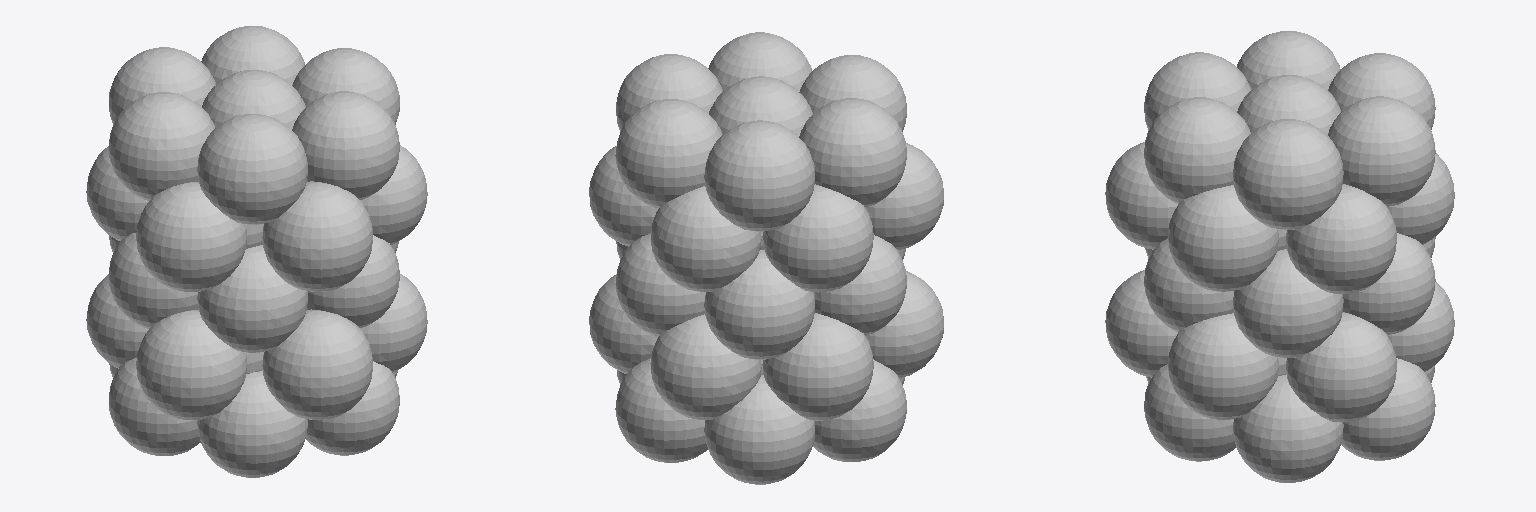
Rendered from estructura hexagonal compacta ABA 2.obj.obj.
3 renders of one model, left to right at view 1: azimuth 30°, elevation 25°; view 2: azimuth 150°, elevation 25°; view 3: azimuth 270°, elevation 25°, orthographic.
Visible parts, largest first — view 1: Sphere.506_Sphere.001, Sphere.497_Sphere.001, Sphere.481_Sphere.001, Sphere.502_Sphere.001, Sphere.486_Sphere.001, Sphere.504_Sphere.001, Sphere.507_Sphere.001, Sphere.490_Sphere.001, Sphere.473_Sphere.001, Sphere.474_Sphere.001, Sphere.471_Sphere.001, Sphere.509_Sphere.001 (+9 smaller); view 2: Sphere.509_Sphere.001, Sphere.507_Sphere.001, Sphere.508_Sphere.001, Sphere.499_Sphere.001, Sphere.483_Sphere.001, Sphere.493_Sphere.001, Sphere.503_Sphere.001, Sphere.487_Sphere.001, Sphere.476_Sphere.001, Sphere.475_Sphere.001, Sphere.474_Sphere.001, Sphere.492_Sphere.001 (+9 smaller); view 3: Sphere.505_Sphere.001, Sphere.508_Sphere.001, Sphere.501_Sphere.001, Sphere.485_Sphere.001, Sphere.496_Sphere.001, Sphere.479_Sphere.001, Sphere.504_Sphere.001, Sphere.489_Sphere.001, Sphere.472_Sphere.001, Sphere.475_Sphere.001, Sphere.492_Sphere.001, Sphere.471_Sphere.001 (+9 smaller).
Part boxes in pixels (bbox=[...]): Sphere.506_Sphere.001: bbox=[197, 114, 307, 224]; Sphere.497_Sphere.001: bbox=[262, 181, 372, 291]; Sphere.481_Sphere.001: bbox=[262, 309, 372, 419]; Sphere.502_Sphere.001: bbox=[136, 182, 246, 291]; Sphere.486_Sphere.001: bbox=[136, 310, 246, 419]; Sphere.504_Sphere.001: bbox=[292, 91, 399, 199]; Sphere.507_Sphere.001: bbox=[109, 92, 214, 200]; Sphere.490_Sphere.001: bbox=[197, 245, 307, 352]; Sphere.473_Sphere.001: bbox=[197, 370, 307, 477]; Sphere.474_Sphere.001: bbox=[109, 358, 200, 455]; Sphere.471_Sphere.001: bbox=[306, 361, 399, 455]; Sphere.509_Sphere.001: bbox=[109, 47, 215, 124]; Sphere.509_Sphere.001: bbox=[704, 120, 814, 231]; Sphere.507_Sphere.001: bbox=[799, 98, 906, 206]; Sphere.508_Sphere.001: bbox=[615, 99, 722, 207]; Sphere.499_Sphere.001: bbox=[762, 184, 873, 292]; Sphere.483_Sphere.001: bbox=[762, 313, 873, 420]; Sphere.493_Sphere.001: bbox=[704, 250, 814, 359]; Sphere.503_Sphere.001: bbox=[651, 186, 761, 291]; Sphere.487_Sphere.001: bbox=[650, 314, 761, 419]; Sphere.476_Sphere.001: bbox=[704, 375, 814, 484]; Sphere.475_Sphere.001: bbox=[615, 358, 707, 462]; Sphere.474_Sphere.001: bbox=[813, 359, 906, 461]; Sphere.492_Sphere.001: bbox=[615, 233, 705, 336]; Sphere.505_Sphere.001: bbox=[1233, 119, 1343, 229]; Sphere.508_Sphere.001: bbox=[1328, 96, 1435, 206]; Sphere.501_Sphere.001: bbox=[1168, 185, 1278, 291]; Sphere.485_Sphere.001: bbox=[1168, 313, 1278, 419]; Sphere.496_Sphere.001: bbox=[1286, 184, 1396, 293]; Sphere.479_Sphere.001: bbox=[1286, 312, 1396, 421]; Sphere.504_Sphere.001: bbox=[1144, 97, 1250, 203]; Sphere.489_Sphere.001: bbox=[1233, 249, 1343, 357]; Sphere.472_Sphere.001: bbox=[1233, 374, 1343, 482]; Sphere.475_Sphere.001: bbox=[1341, 358, 1435, 460]; Sphere.492_Sphere.001: bbox=[1343, 233, 1435, 334]; Sphere.471_Sphere.001: bbox=[1144, 364, 1235, 461].
Bounding box in the file's own units: 1.3 × 1.56 × 1.4.